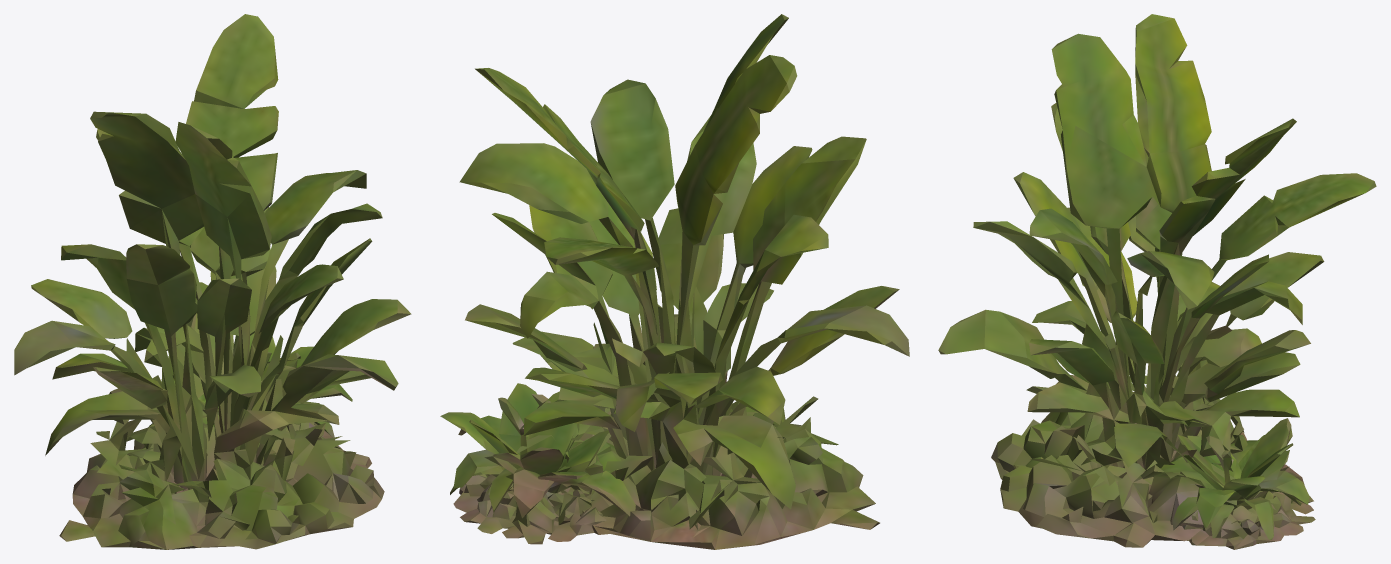
Rendered from shrub_01.glb.
3 views of the same model, side by side, from view 1: azimuth 30°, elevation 25°; view 2: azimuth 150°, elevation 25°; view 3: azimuth 270°, elevation 25° (orthographic). The views are drawn at different scales.
Visible parts, largest first — view 1: shrub_01; view 2: shrub_01; view 3: shrub_01.
Part boxes in pixels (x1=…): shrub_01: x1=14, y1=14, x2=411, y2=549; shrub_01: x1=440, y1=14, x2=909, y2=549; shrub_01: x1=938, y1=14, x2=1376, y2=549.
Size of the model in its own units: 2.31 by 2.4 by 2.31.
Materials: 1 (1 with a texture image).
